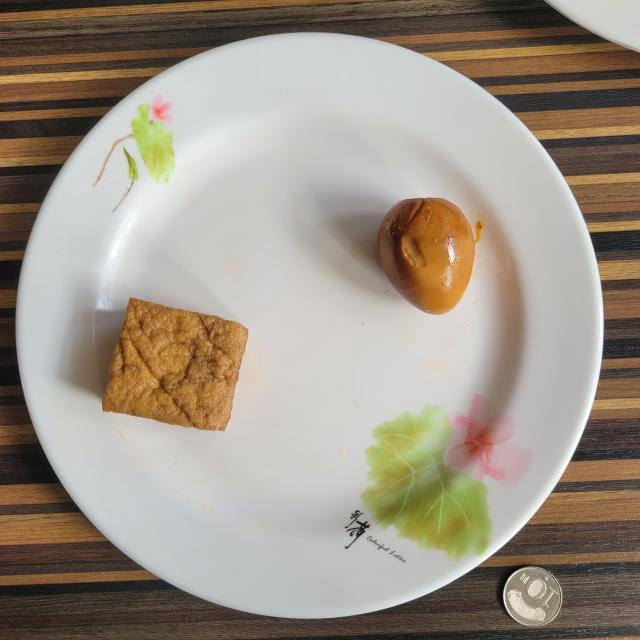coin: (502, 566, 562, 628)
egg tofu: (102, 298, 248, 430)
soy egg: (378, 198, 475, 315)
